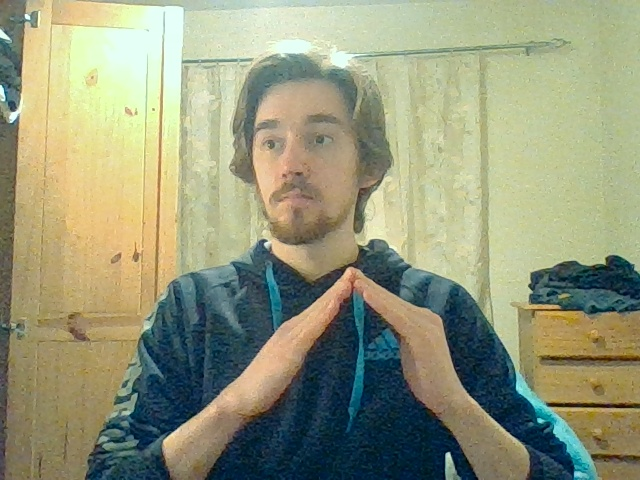home: (274, 267, 446, 363)
